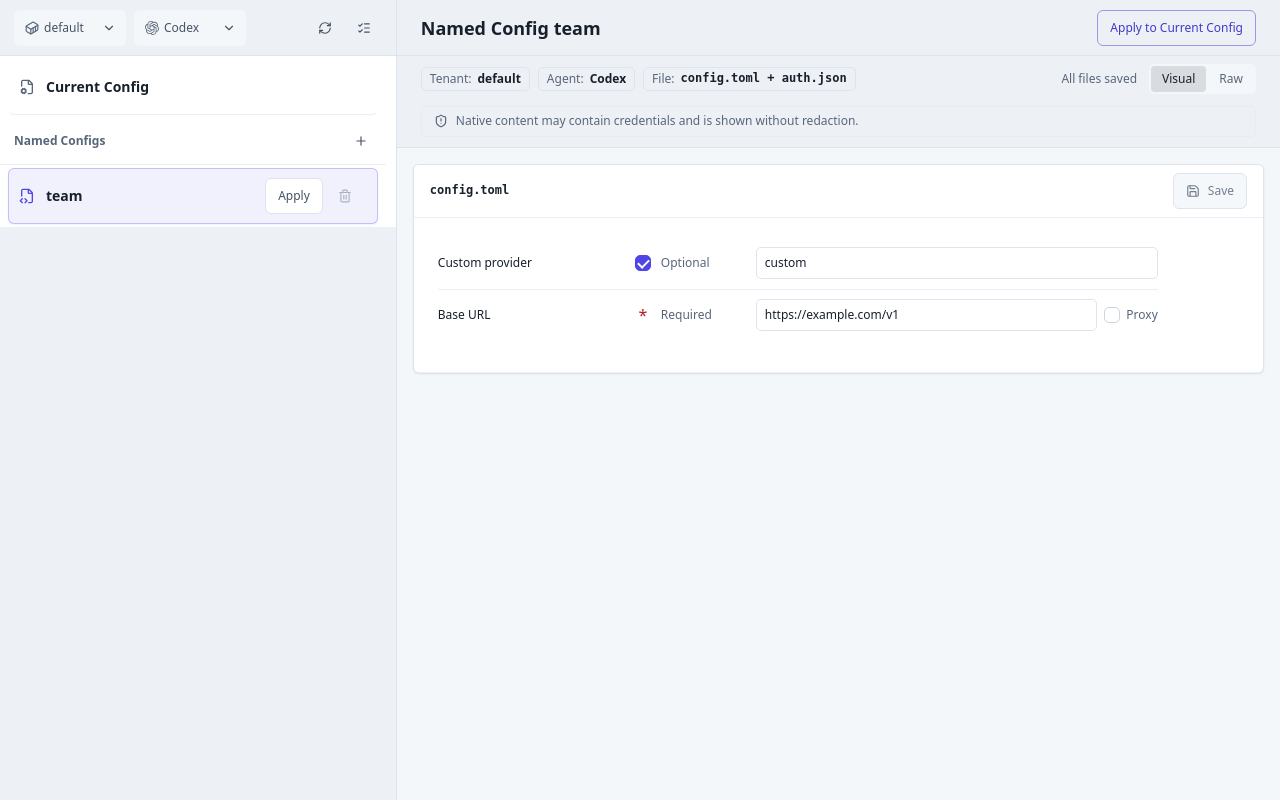
Test: ConfigPage › refuses an invalid Visual save in the file, marks the field, and clears on edit
Check: the text "Routed through the Request Proxy" is not shown
Clear the field named "Custom provider base URL" at (927, 315), box top-left (756, 299), bottom-right (1097, 331)
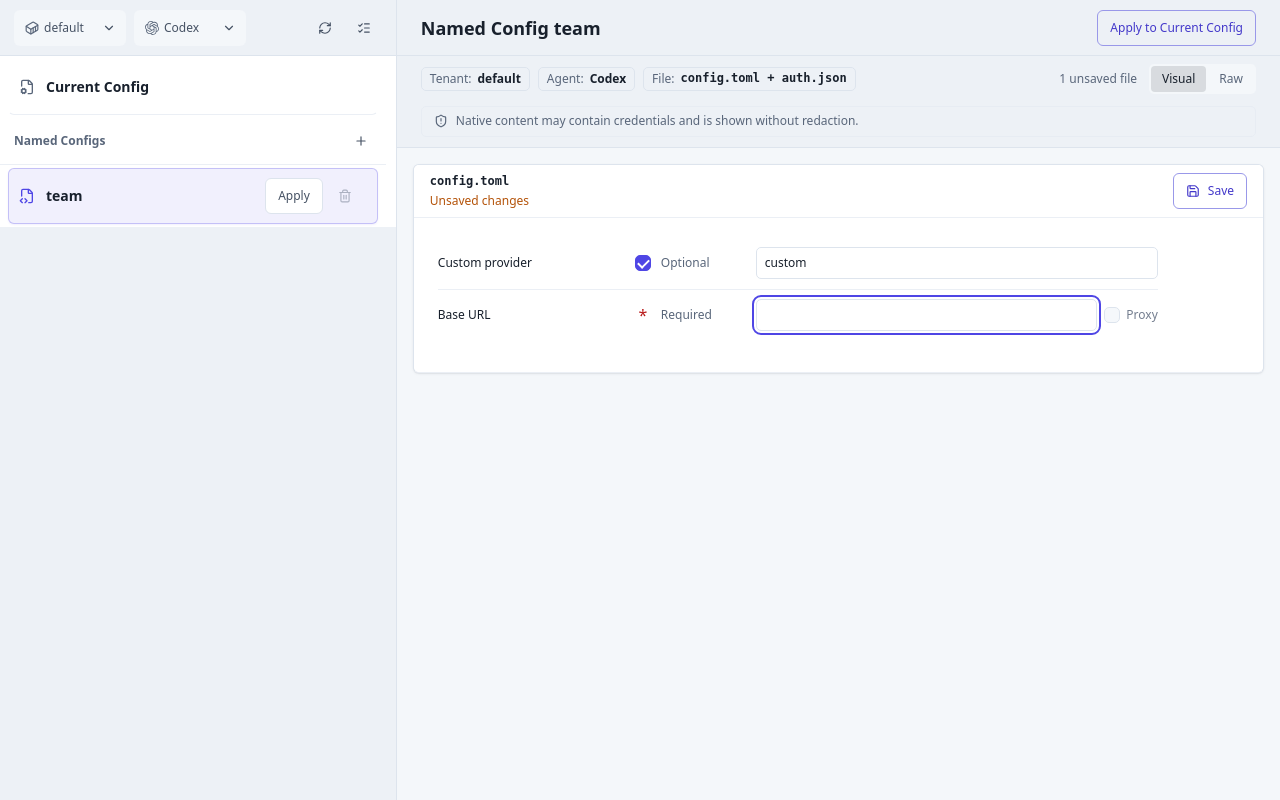
Type "not a url" into the field named "Custom provider base URL".
click(927, 315); type("not a url")  # box top-left (756, 299), bottom-right (1097, 331)
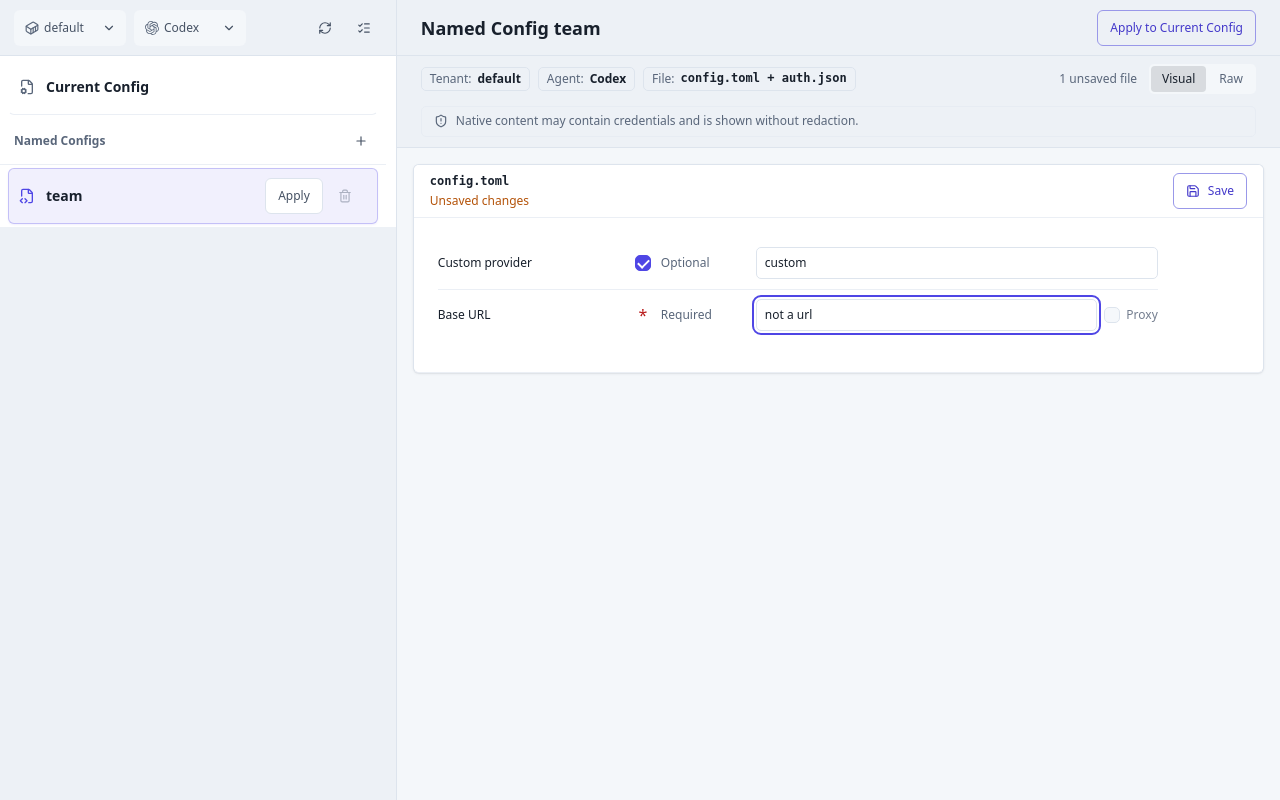
Click the button "Save".
click(1210, 191)  # box top-left (1173, 173), bottom-right (1247, 209)
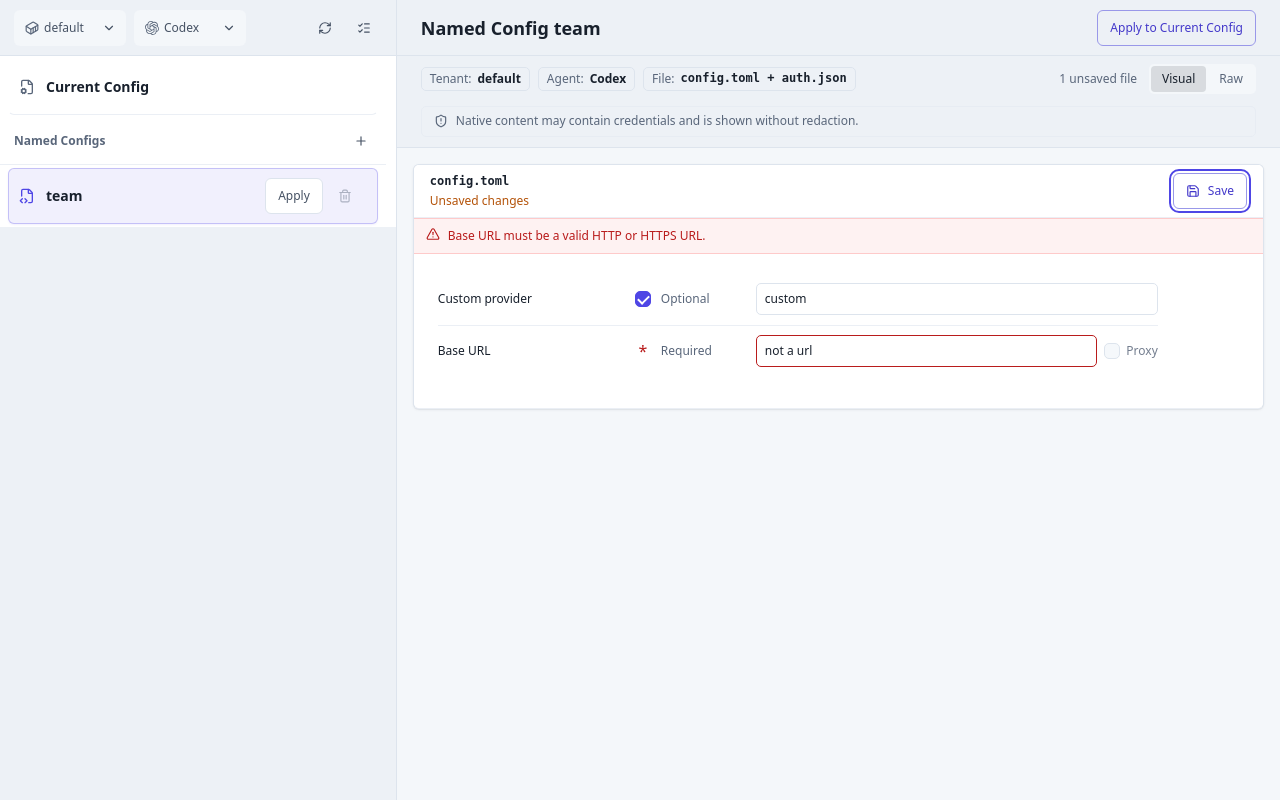
Check: the message reads "Base URL must be a valid HTTP or HTTPS URL.", box top-left (448, 227), bottom-right (706, 244)
Type "x" into the field named "Custom provider base URL".
click(927, 351); type("x")  # box top-left (756, 335), bottom-right (1097, 367)
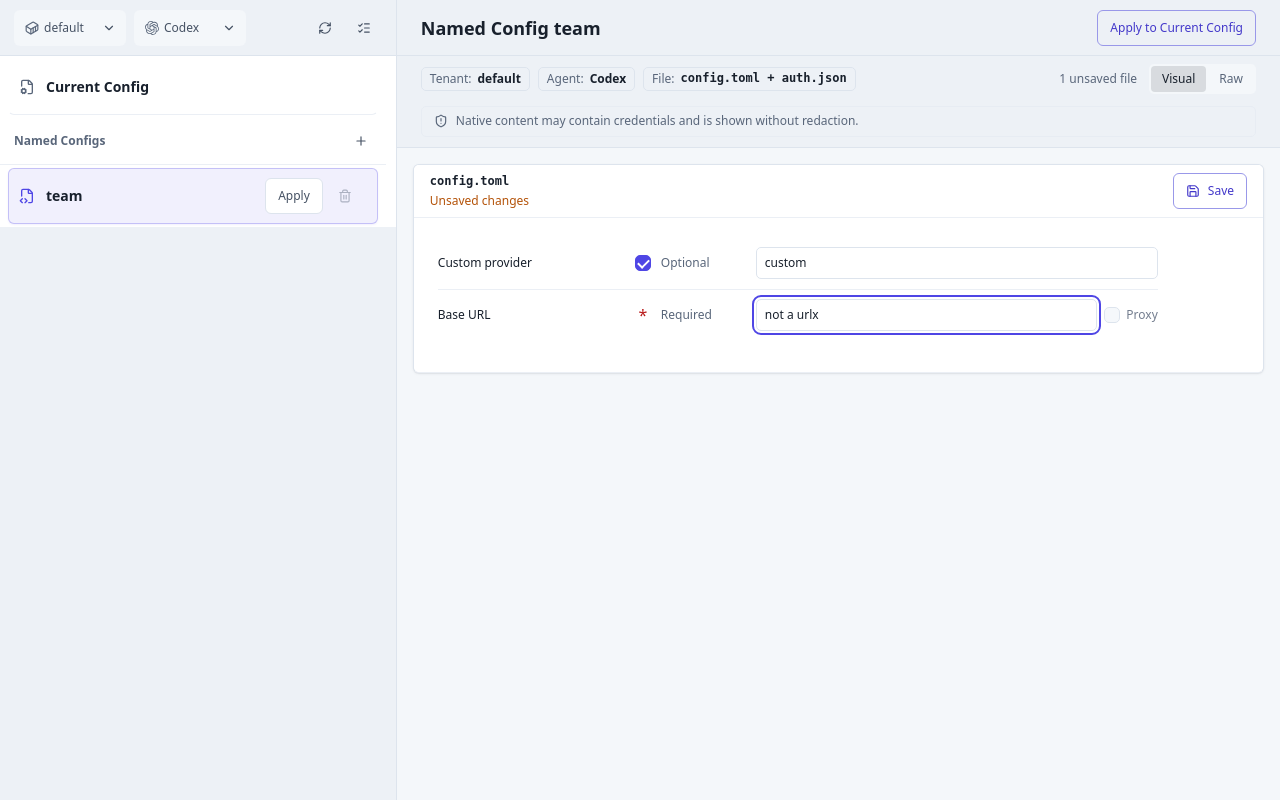
Check: the message "Base URL must be a valid HTTP or HTTPS URL." is gone
Replace the text in the field named "Custom provider base URL" with "https://api.example.com/v1" at (927, 315), box top-left (756, 299), bottom-right (1097, 331)
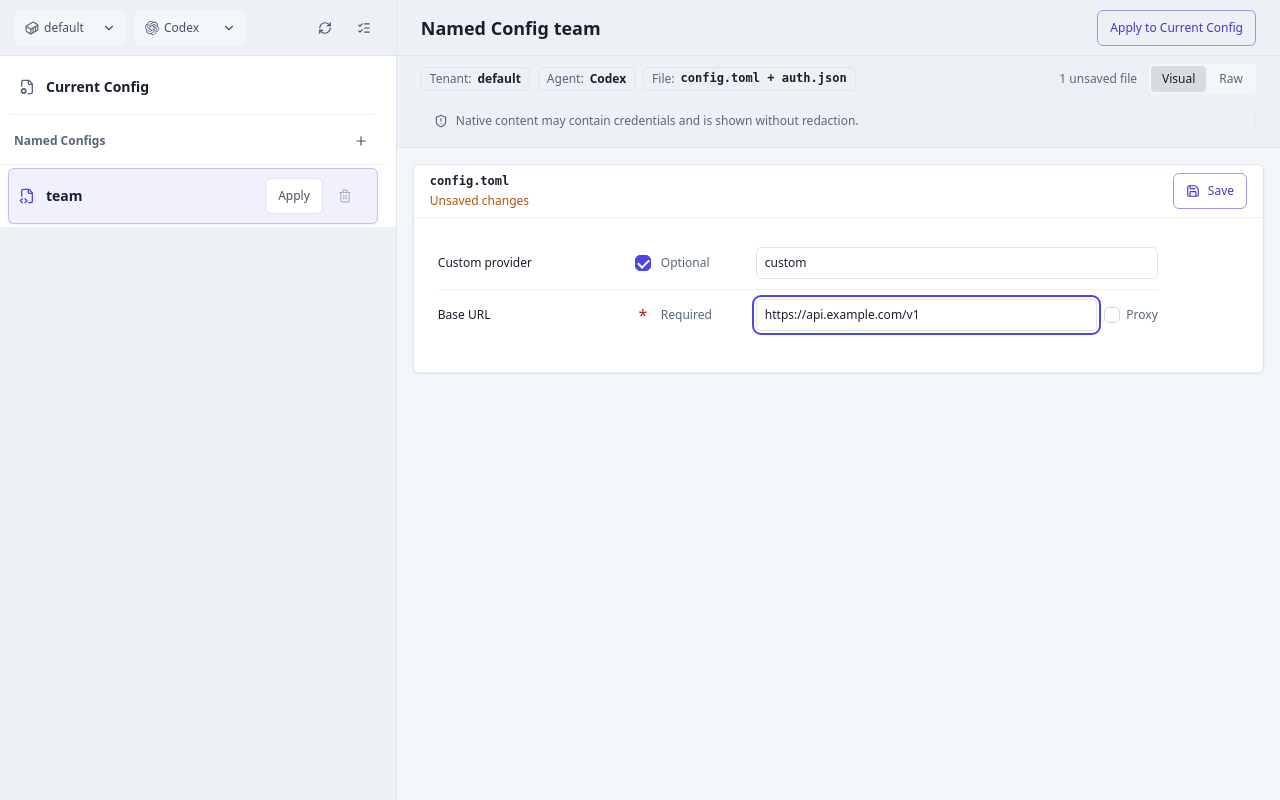
Click the checkbox named "Route Custom provider through Request Proxy".
click(1131, 315)  # box top-left (1104, 303), bottom-right (1158, 327)
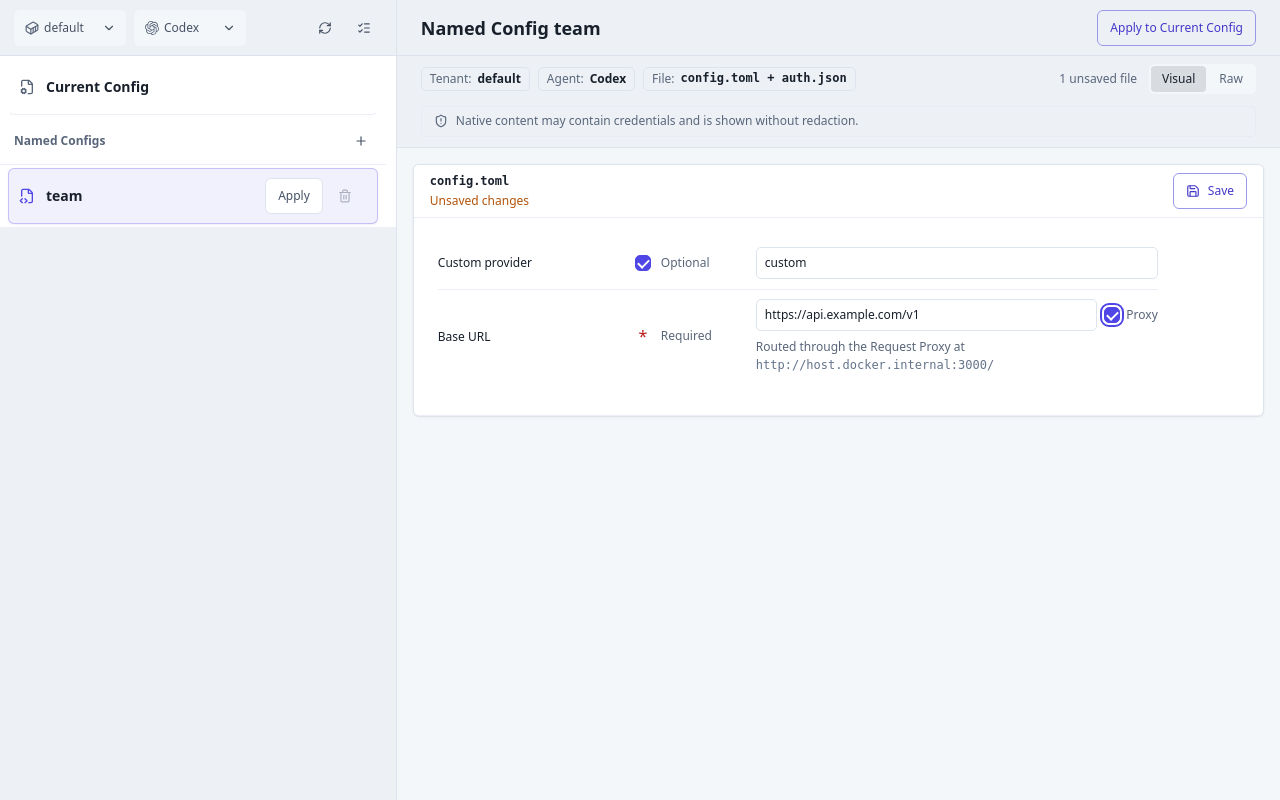
Check: the text "Routed through the Request Proxy at" shows "http://host.docker.internal:3000/", box top-left (756, 358), bottom-right (994, 372)
